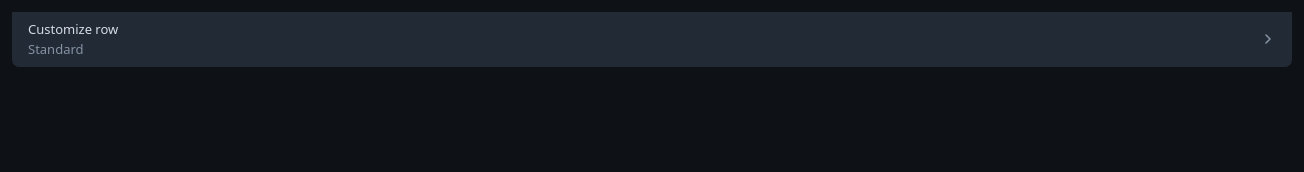
Test case: DisclosureRow › starts closed and opens and closes its content on a click
This screenshot has width=1304, height=172.
Later steps or results of the test are not shown.
Click the button "Customize row Standard" at {"x": 73, "y": 29}, box [12,12,1292,67]
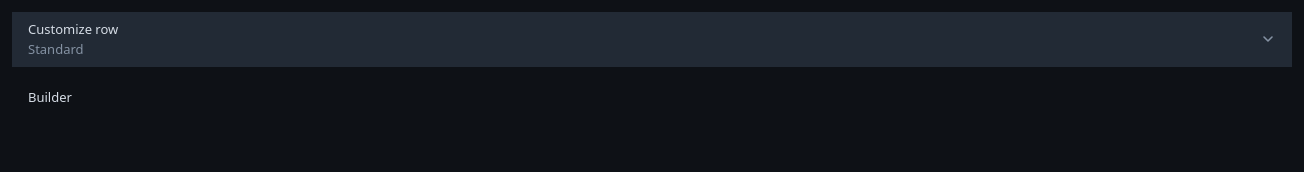
Expected: the button "Customize row Standard" is expanded, [12,12,1292,67]
Expected: the element showing "Builder" is shown, [28,88,72,106]
